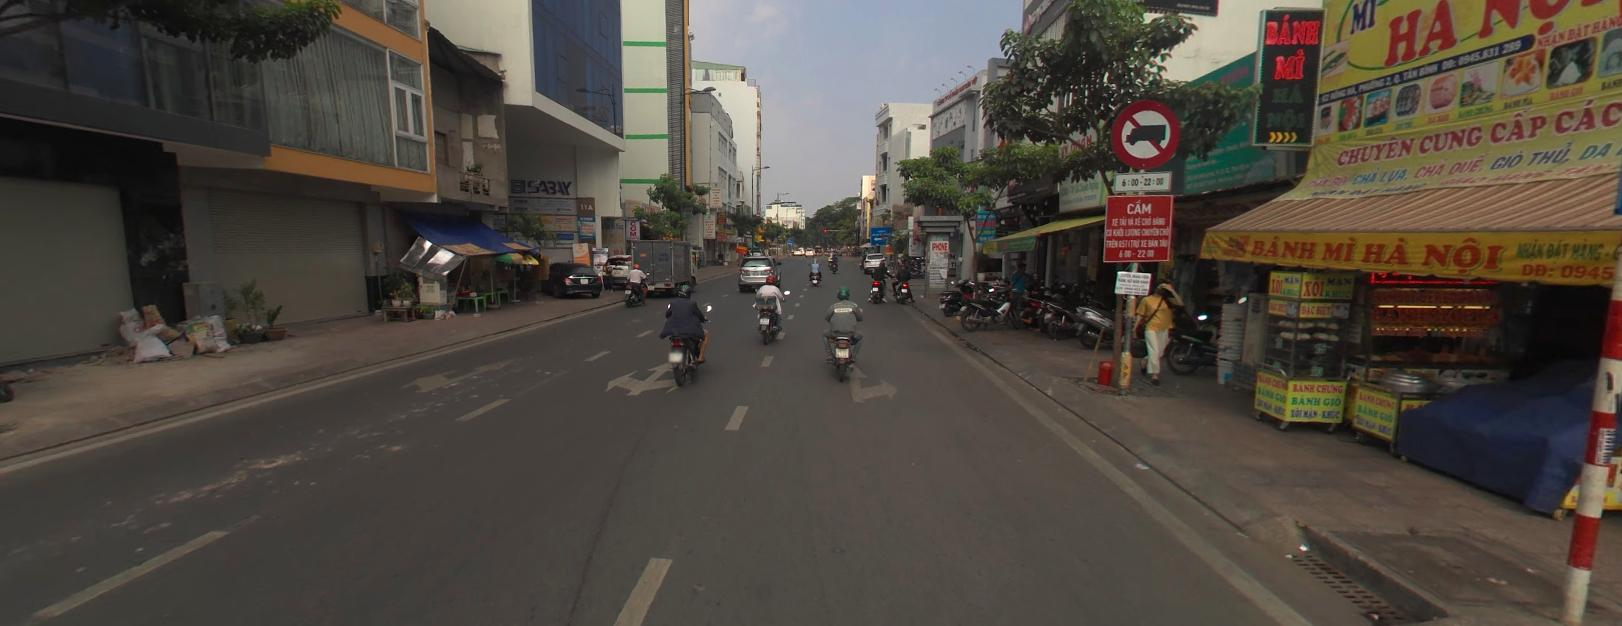Cam con lai: (1112, 99, 1178, 167)
